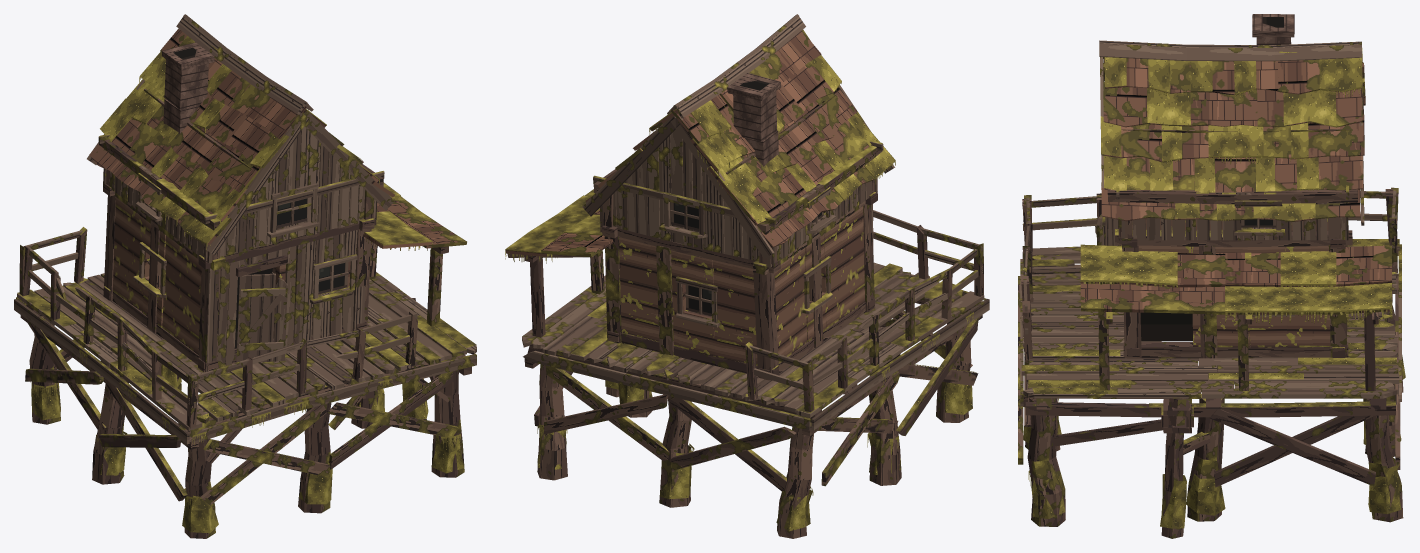
Rendered from SM_SW20_DrownedMill.fbx.
3 renders of one model, left to right at view 1: azimuth 30°, elevation 25°; view 2: azimuth 150°, elevation 25°; view 3: azimuth 270°, elevation 25°, orthographic. The views are drawn at different scales.
Visible parts, largest first — view 1: SW20a_Planks, SW20a_Bark, SW20a_Moss, SW20a_Roof, SW20a_LogWall, SW20a_Props, SW20a_Plants; view 2: SW20a_Planks, SW20a_Bark, SW20a_Moss, SW20a_LogWall, SW20a_Roof, SW20a_Props, SW20a_Plants; view 3: SW20a_Moss, SW20a_Bark, SW20a_Roof, SW20a_Planks, SW20a_LogWall, SW20a_Props, SW20a_Plants.
Boxes of the visible parts, x1,y1,x2,y2 form: SW20a_Planks: (14, 14, 476, 444); SW20a_Bark: (19, 89, 471, 538); SW20a_Moss: (16, 36, 476, 533); SW20a_Roof: (89, 29, 466, 248); SW20a_LogWall: (113, 197, 350, 354); SW20a_Props: (149, 42, 348, 348); SW20a_Plants: (30, 39, 460, 510); SW20a_Planks: (522, 14, 989, 430); SW20a_Bark: (507, 93, 983, 538); SW20a_Moss: (506, 55, 982, 531); SW20a_LogWall: (619, 206, 864, 365); SW20a_Roof: (505, 30, 874, 257); SW20a_Props: (671, 73, 824, 315); SW20a_Plants: (505, 55, 986, 504); SW20a_Moss: (1018, 48, 1405, 528); SW20a_Bark: (1018, 129, 1403, 538); SW20a_Roof: (1080, 52, 1392, 314); SW20a_Planks: (1020, 40, 1401, 406); SW20a_LogWall: (1138, 218, 1330, 347); SW20a_Props: (1140, 14, 1294, 341); SW20a_Plants: (1028, 51, 1399, 485).
Size of the model in its own units: 6.23 by 7.27 by 6.13.
